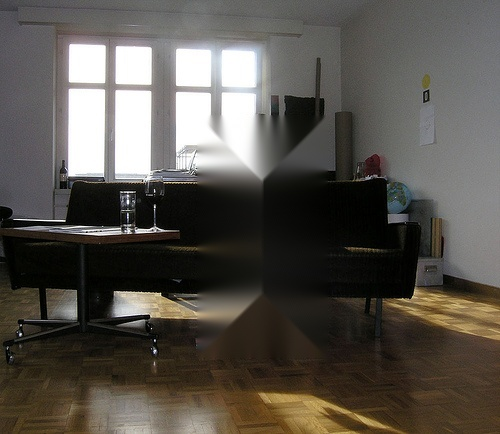bottle: (58, 158, 72, 191)
sofa: (6, 180, 425, 341)
